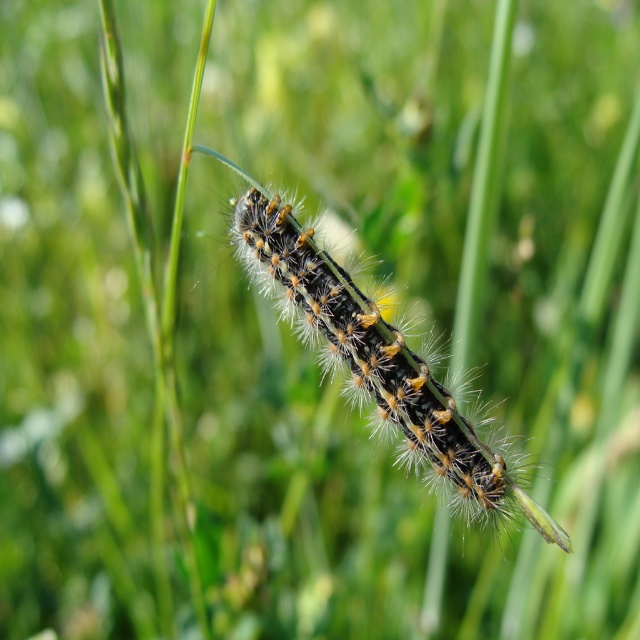Caterpillar: (188, 152, 560, 564)
